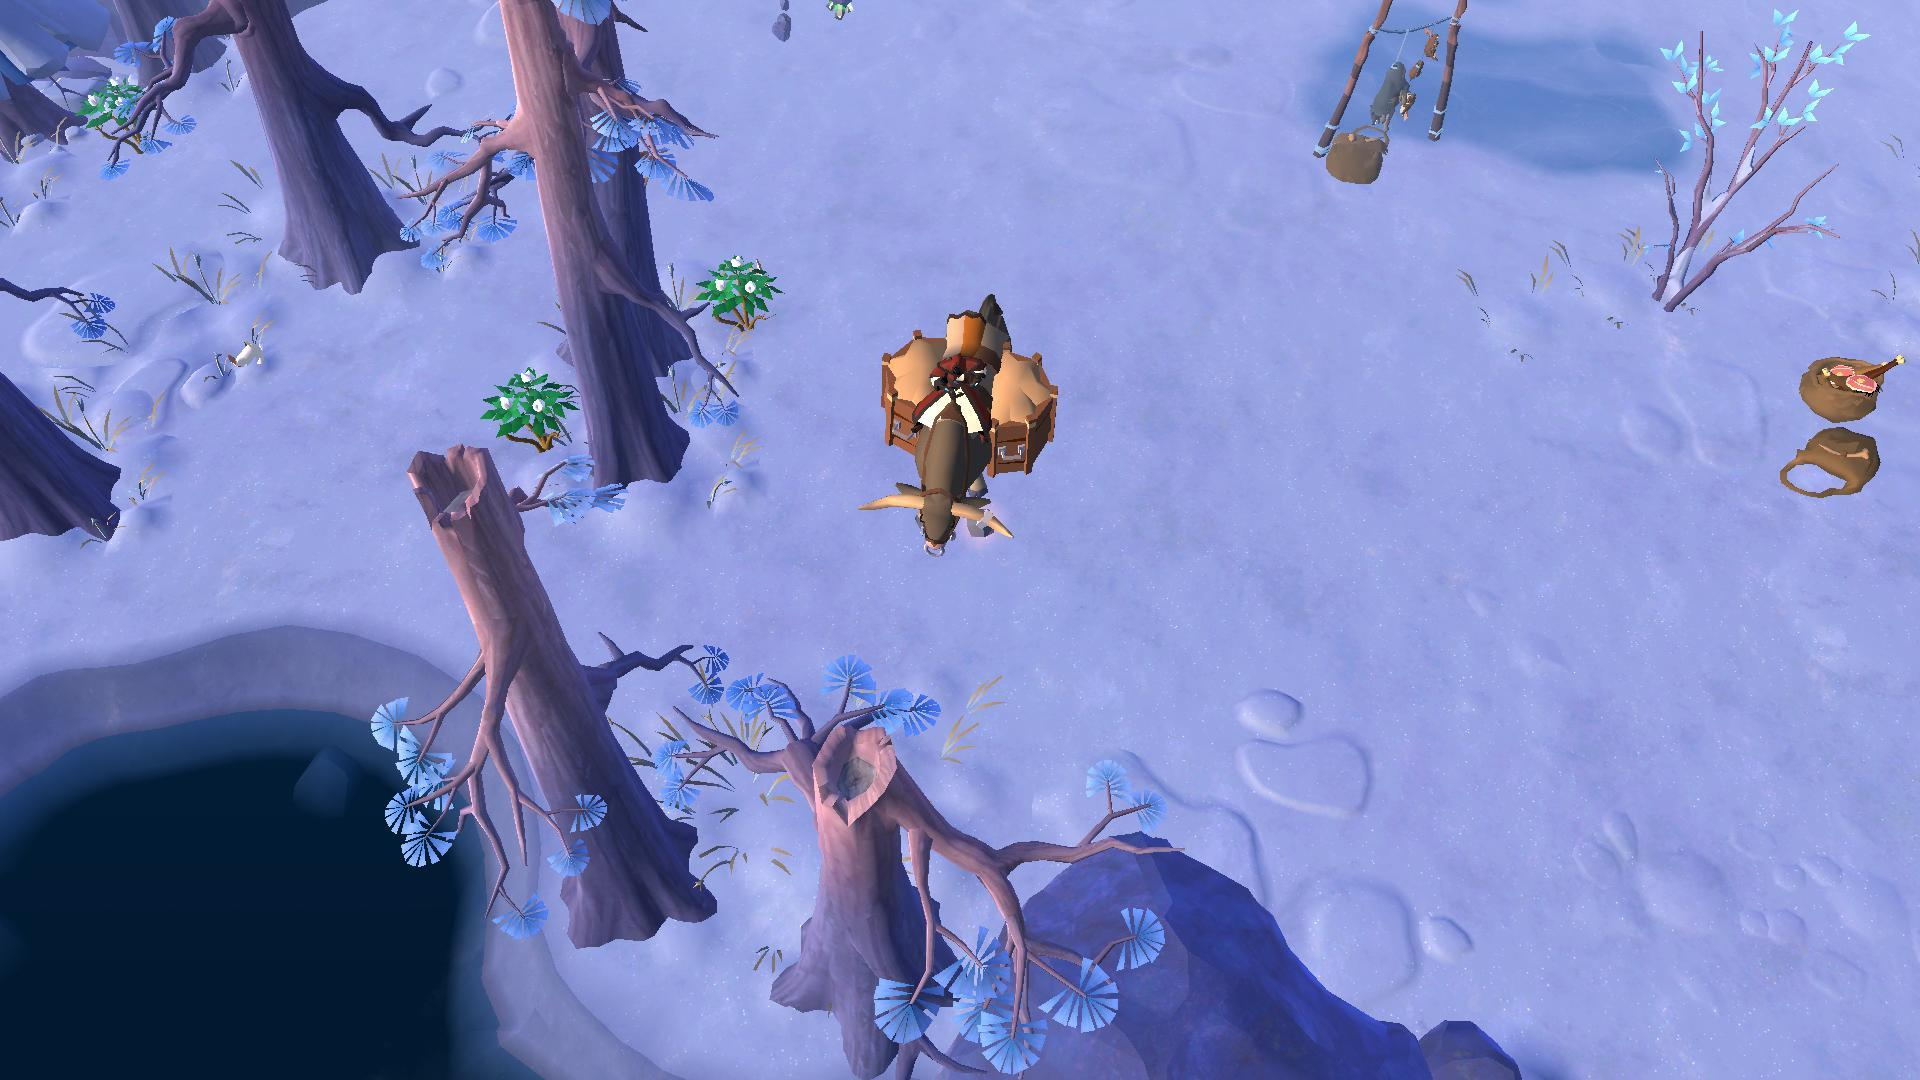fiber_t3: (475, 356, 571, 460), (687, 255, 785, 331), (67, 67, 152, 138)
